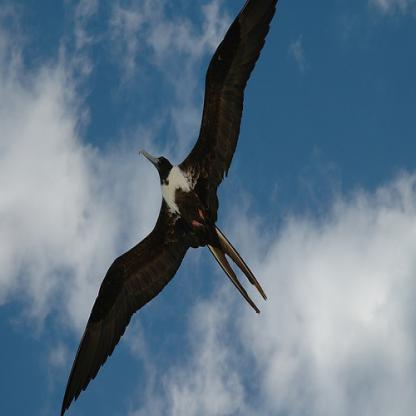bird: (59, 0, 279, 414)
